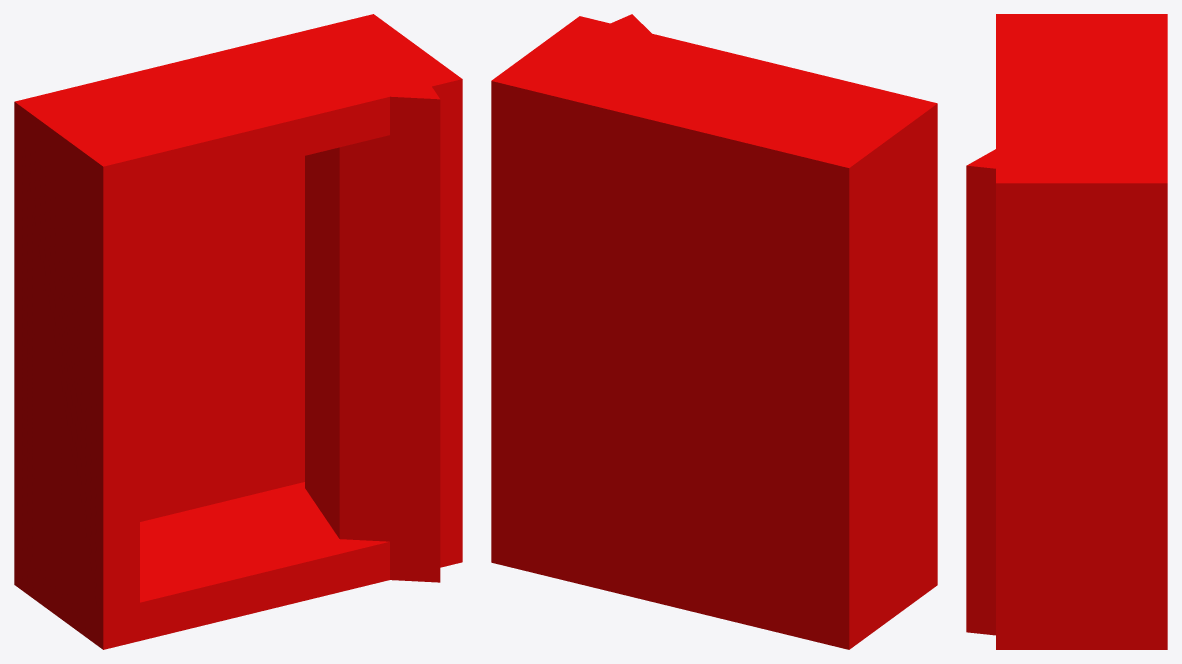
Rendered from bin.obj.
The picture shows the model from 3 angles, left to right: view 1: azimuth 30°, elevation 25°; view 2: azimuth 150°, elevation 25°; view 3: azimuth 270°, elevation 25°; orthographic projection. The views are drawn at different scales.
Bounding box in the file's own units: 0.49 × 0.63 × 0.246.
